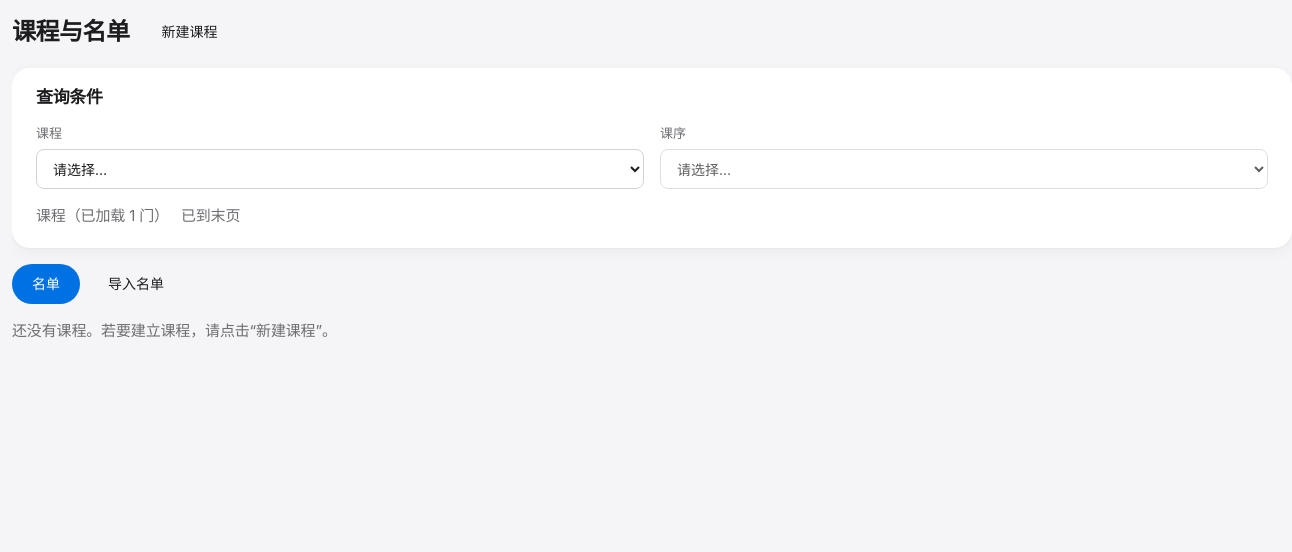
it: 名单读取与编辑（RQ-B-1-20） › 名单超过一页时给出「加载更多」，加载后到末页给出明确终点（不静默截断）
Select "OS-2026 · 操作系统" in the dropdown labelled "课程" at (340, 169), box [36,149,644,189]
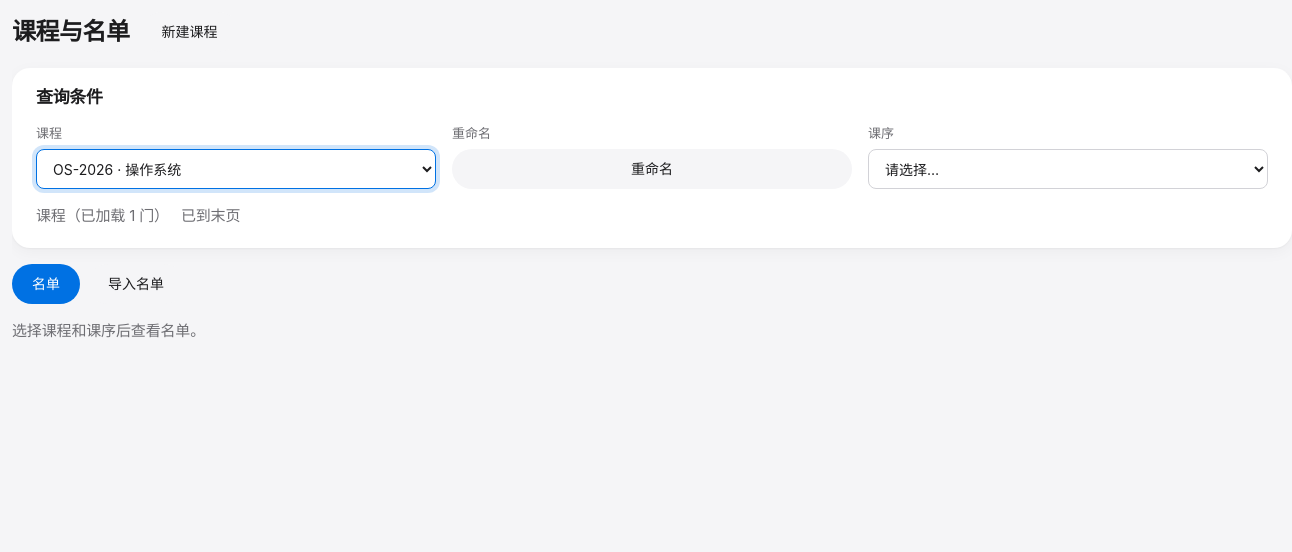
Select "01" in the dropdown labelled "课序" at (1068, 169), box [868,149,1268,189]
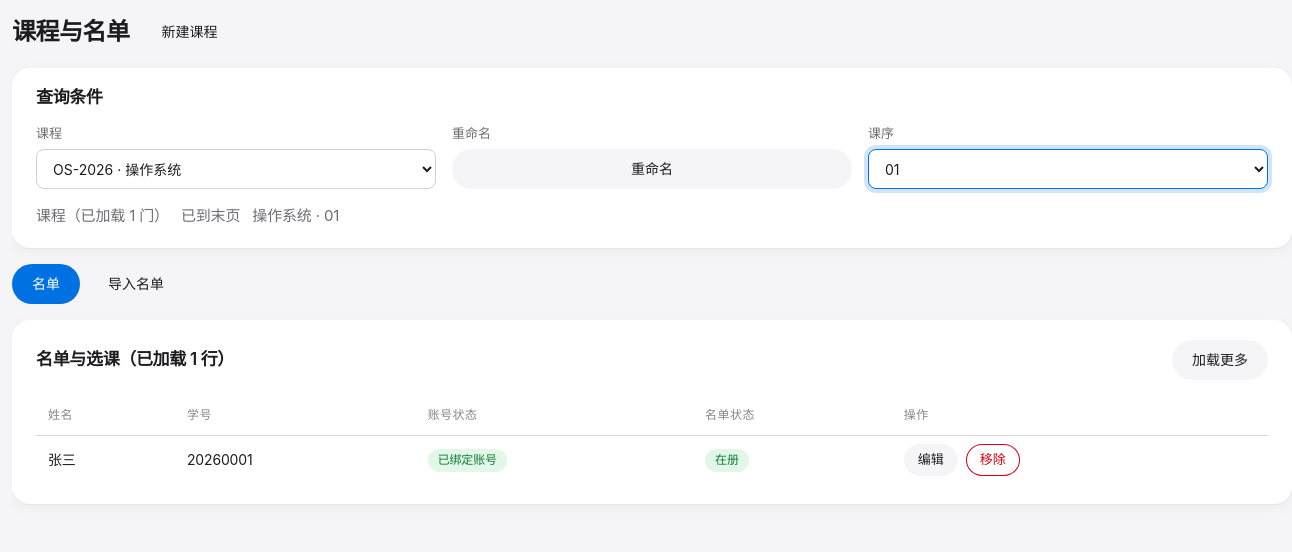
expect the number of rows is 2: met, box [36,396,1268,436]; [36,436,1268,484]
expect the button with test id "enrollments-load-more" is shown: met
Click the button with test id "enrollments-load-more" at (1220, 360), box [1172,340,1268,380]
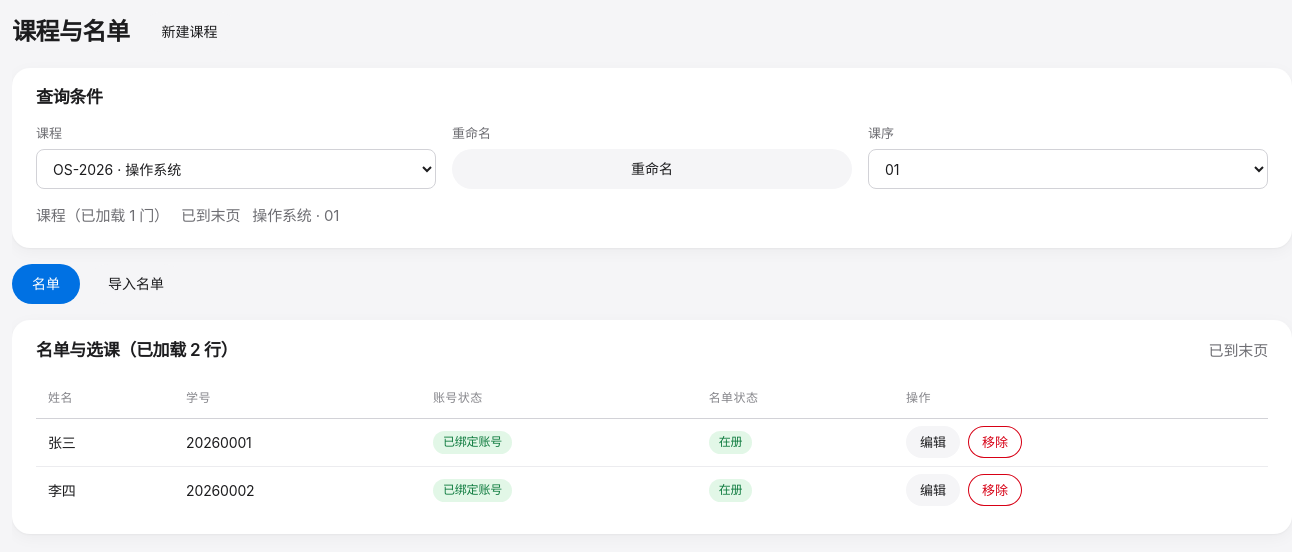
expect the number of rows is 3: met, box [36,378,1268,418]; [36,418,1268,466]; [36,466,1268,514]
expect the table with test id "enrollments-table" shows "20260002": met, box [186,482,254,499]
expect the heading "名单与选课（已加载 2 行）" is shown: met, box [36,341,237,360]
